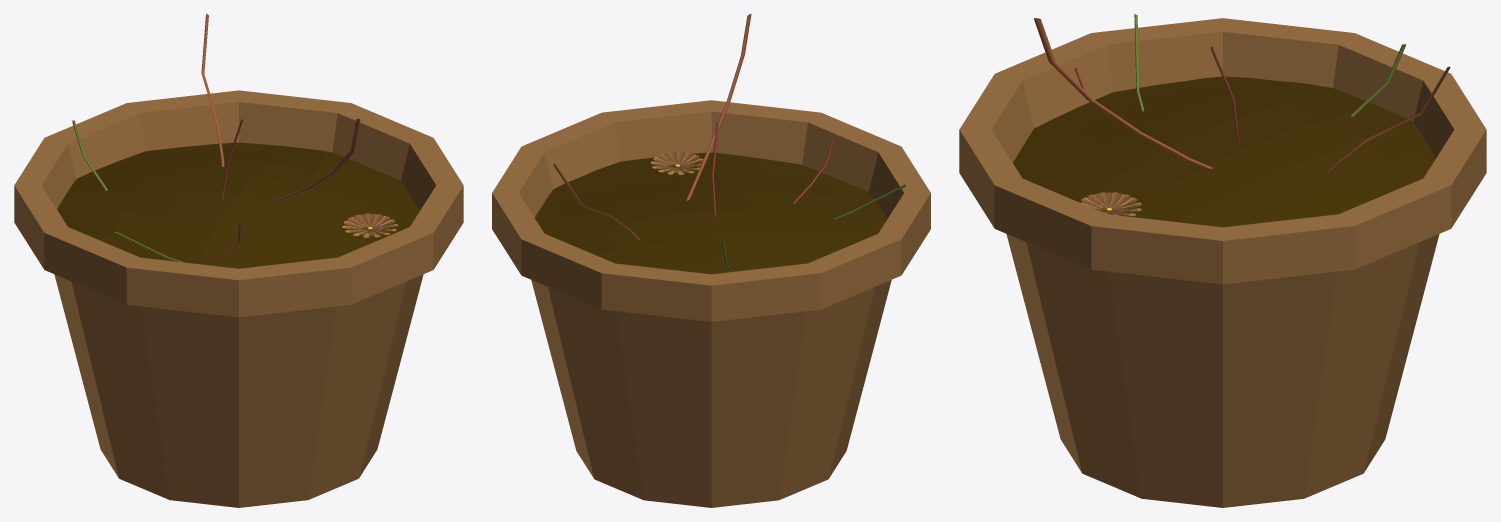
File: Flower2_Frame4.fbx
3 views of the same model, side by side, from view 1: azimuth 30°, elevation 25°; view 2: azimuth 150°, elevation 25°; view 3: azimuth 270°, elevation 25° (orthographic). The views are drawn at different scales.
Parts seen in each view (by area): view 1: Cylinder.002, Circle.004, BézierCurve.005, Circle.004|Circle|Dupli|; view 2: Cylinder.002, Circle.004, BézierCurve.005, Circle.004|Circle|Dupli|; view 3: Cylinder.002, Circle.004, BézierCurve.005, Circle.004|Circle|Dupli|, BézierCurve.002.
Part boxes in pixels (<box>): Cylinder.002: <box>14,90,463,507</box>; Circle.004: <box>57,142,419,268</box>; BézierCurve.005: <box>201,14,360,201</box>; Circle.004|Circle|Dupli|: <box>342,213,397,237</box>; Cylinder.002: <box>492,100,930,507</box>; Circle.004: <box>535,152,887,274</box>; BézierCurve.005: <box>553,14,751,240</box>; Circle.004|Circle|Dupli|: <box>650,151,703,174</box>; Cylinder.002: <box>959,18,1486,507</box>; Circle.004: <box>1013,76,1435,227</box>; BézierCurve.005: <box>1034,18,1450,172</box>; Circle.004|Circle|Dupli|: <box>1080,192,1141,215</box>; BézierCurve.002: <box>1134,14,1405,116</box>.
Bounding box in the file's own units: 2.26 × 2.1 × 2.26.
